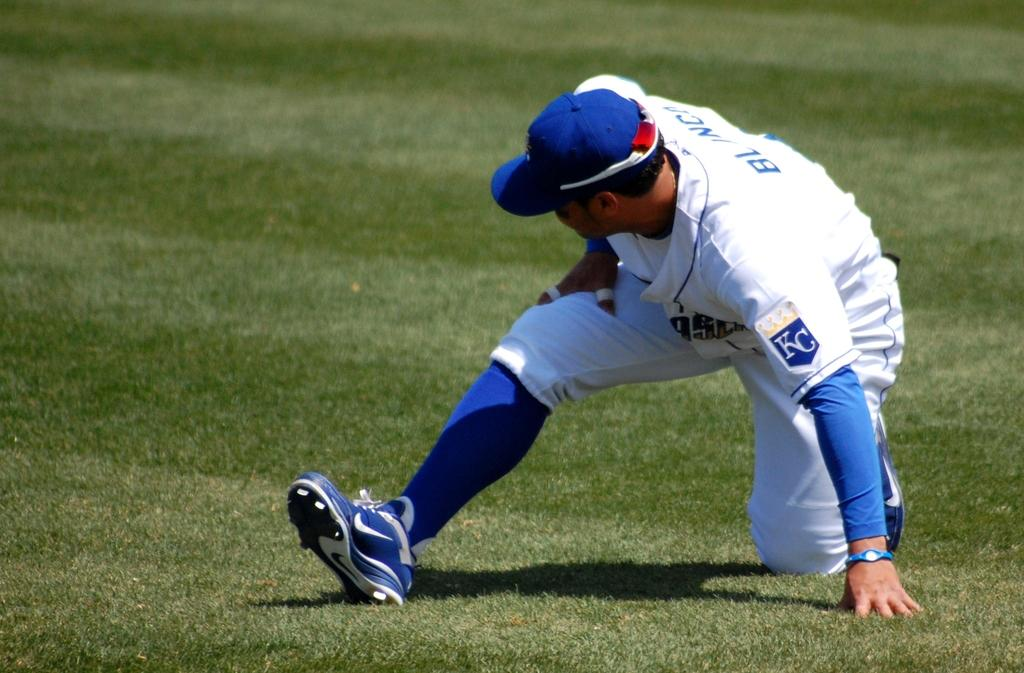Hat: (488, 86, 656, 218)
